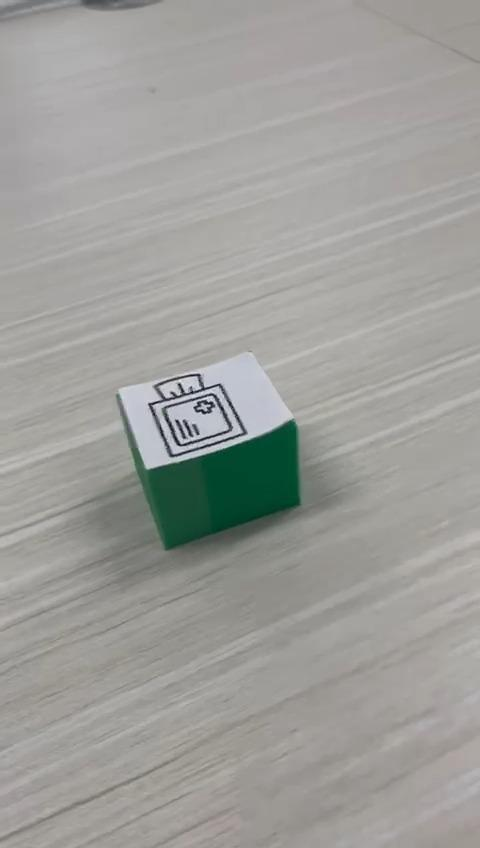Gauze: (114, 349, 301, 551)
